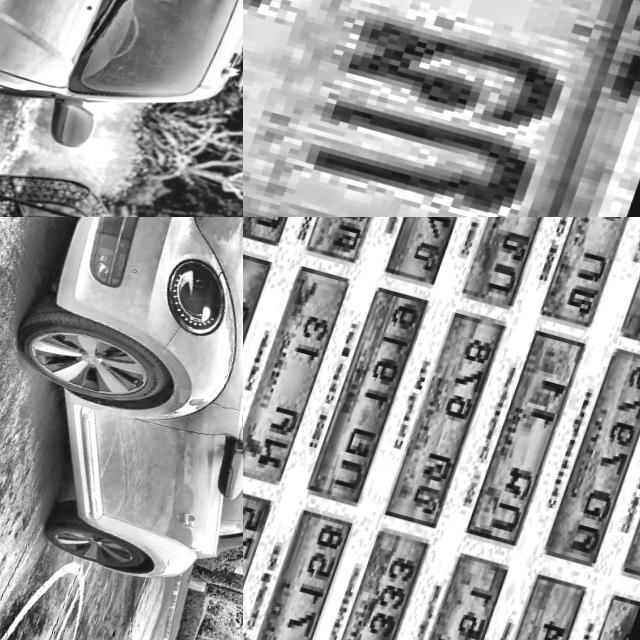license-plate: (243, 0, 640, 217), (386, 304, 515, 532), (308, 285, 435, 514), (468, 330, 593, 550), (243, 260, 356, 491), (544, 347, 640, 572), (243, 510, 366, 640), (314, 521, 443, 640), (539, 217, 640, 332), (460, 217, 576, 314), (398, 552, 521, 640), (380, 217, 498, 293), (476, 569, 597, 640), (243, 240, 280, 470), (300, 217, 417, 271), (243, 487, 284, 640), (555, 594, 640, 640)
